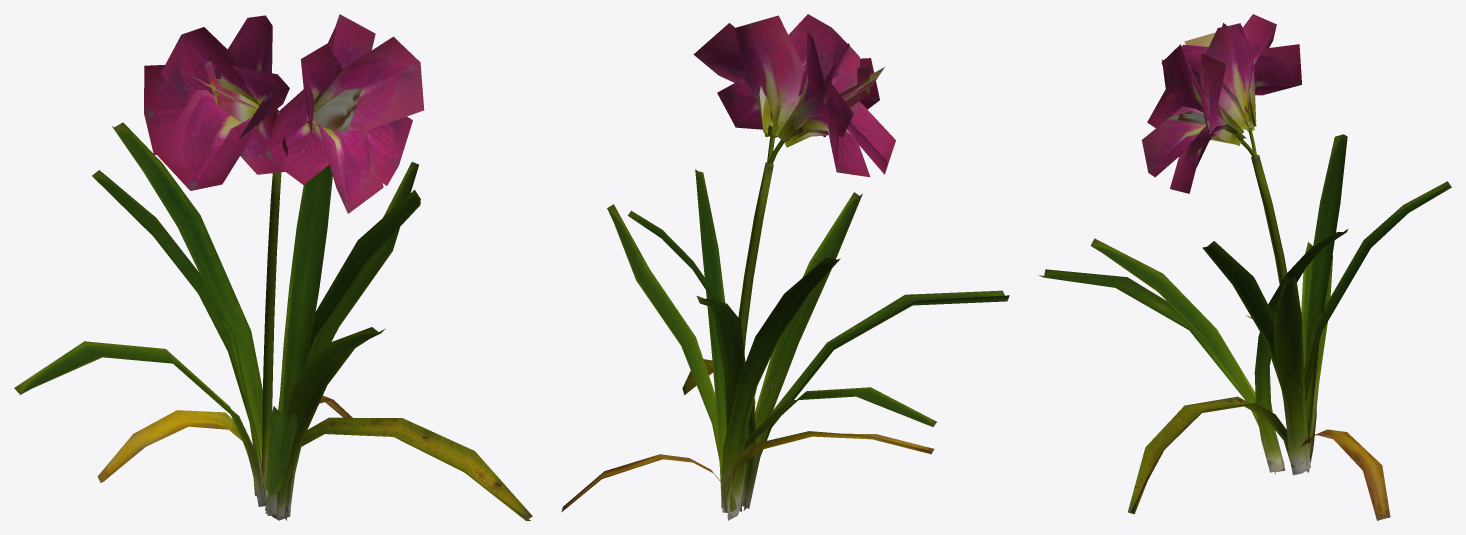
File: Amaryllis_OG_normal_pink.glb
The picture shows the model from 3 angles, left to right: view 1: azimuth 30°, elevation 25°; view 2: azimuth 150°, elevation 25°; view 3: azimuth 270°, elevation 25°; orthographic projection. The views are drawn at different scales.
Parts seen in each view (by area): view 1: og; view 2: og; view 3: og.
Boxes of the visible parts, left/top/right/bottom form: og: left=14, top=14, right=532, bottom=520; og: left=561, top=14, right=1009, bottom=520; og: left=1039, top=14, right=1451, bottom=520.
Bounding box in the file's own units: 1.36 × 1.74 × 1.51.
Materials: 1 (1 with a texture image).
